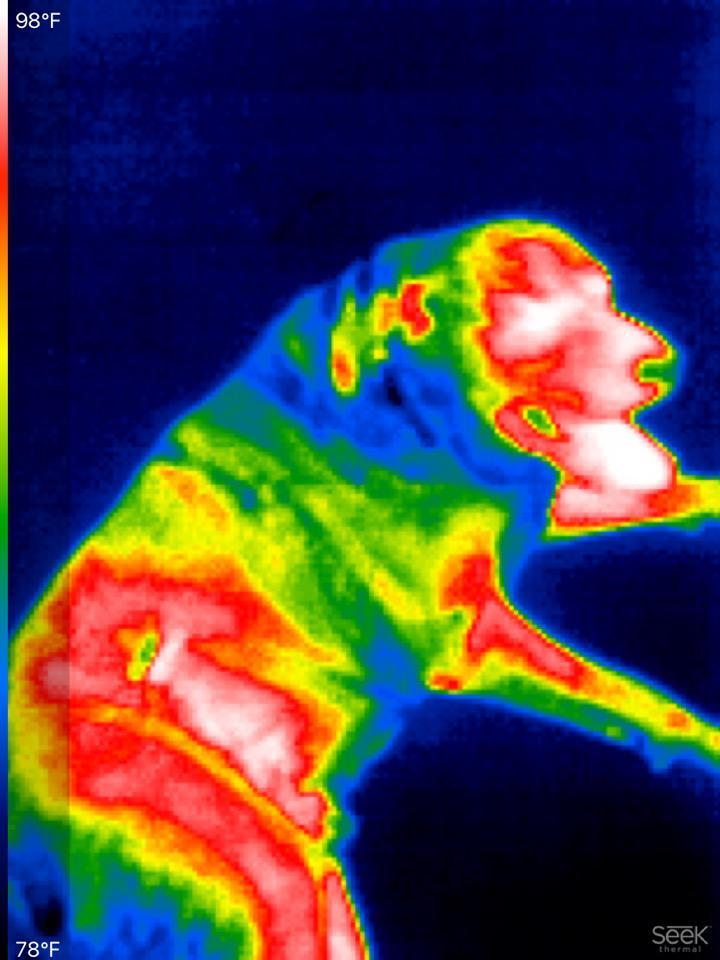dog: (14, 210, 717, 956)
